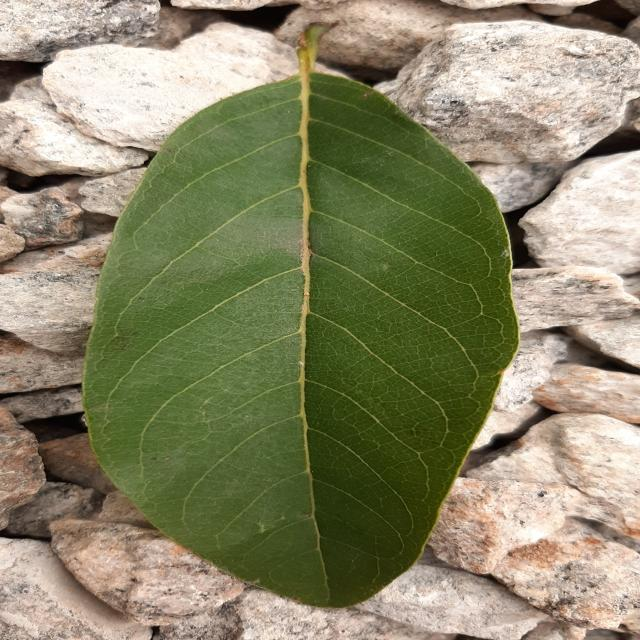seethaphala: (84, 26, 518, 608)
